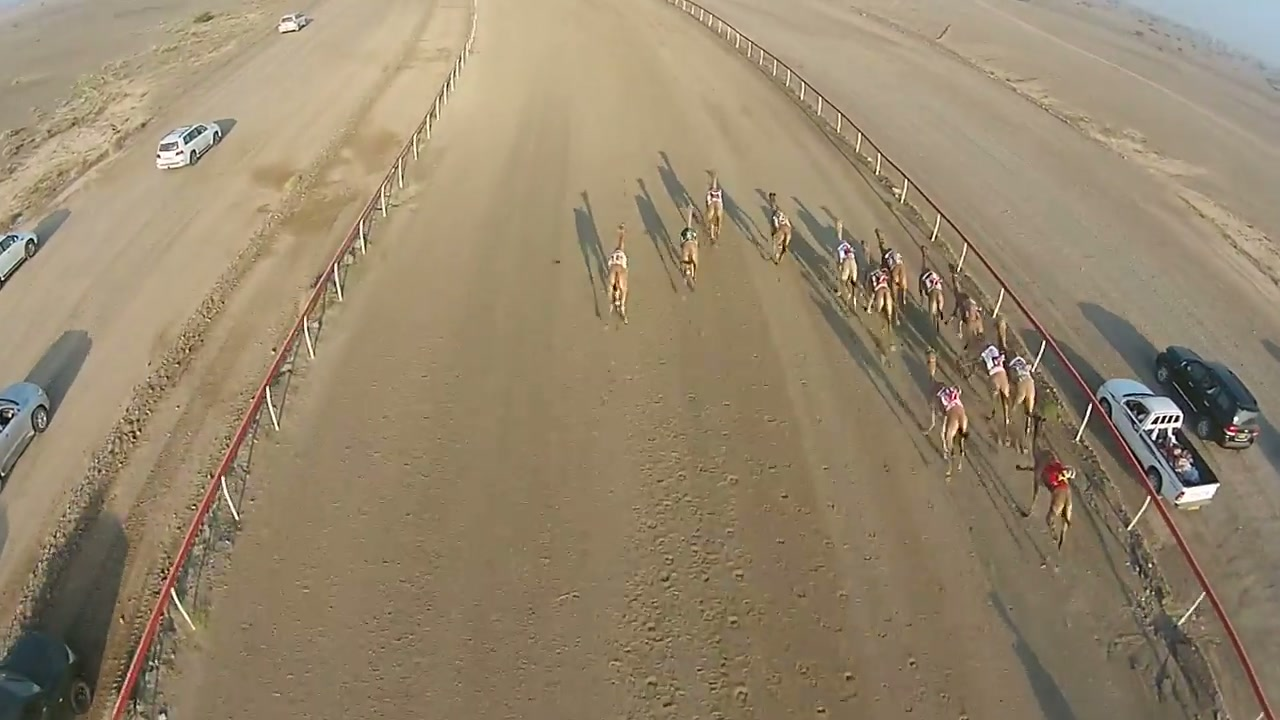animal_footprint: (606, 358, 973, 715), (328, 355, 548, 714)
